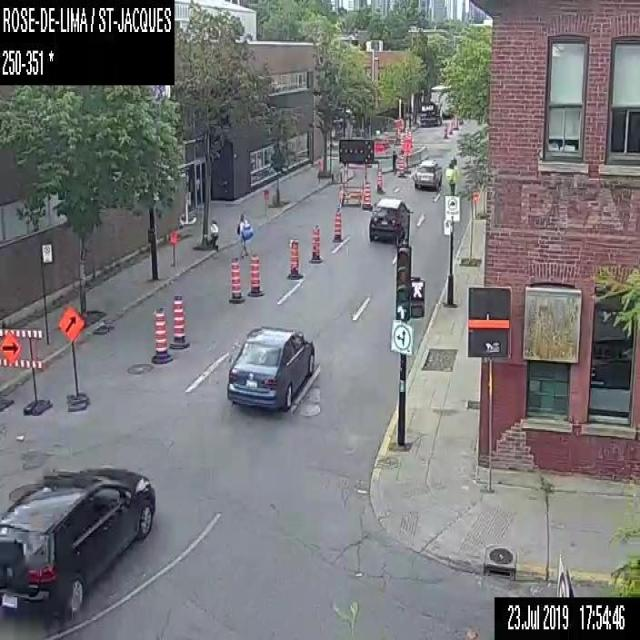construction: (0, 324, 51, 413), (56, 303, 91, 409), (335, 137, 377, 204), (149, 298, 173, 363), (169, 292, 188, 347), (228, 253, 245, 303), (286, 236, 304, 280), (247, 252, 264, 297), (306, 220, 323, 264), (402, 136, 412, 174), (332, 208, 342, 243), (361, 180, 372, 211), (168, 231, 178, 264), (372, 137, 388, 155), (396, 155, 406, 176), (259, 187, 268, 210), (443, 117, 451, 139), (377, 167, 383, 192), (316, 158, 322, 182), (392, 116, 402, 128), (0, 349, 5, 359), (0, 336, 4, 345)
pedestrian: (234, 211, 254, 257), (208, 215, 219, 249)
vehicle: (0, 464, 156, 616), (224, 322, 314, 410), (367, 195, 410, 242), (412, 158, 442, 190)
